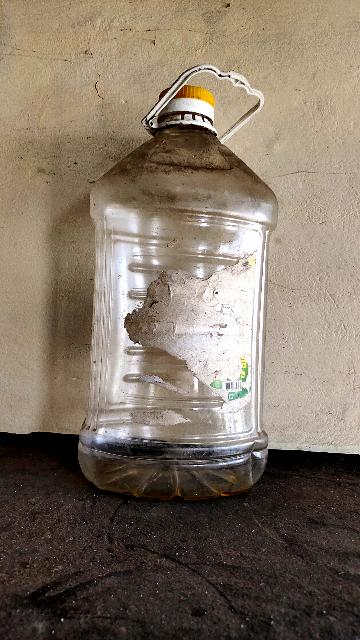bottle: (65, 79, 287, 496)
